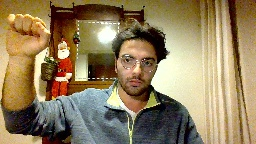Pugno: (0, 10, 52, 59)
